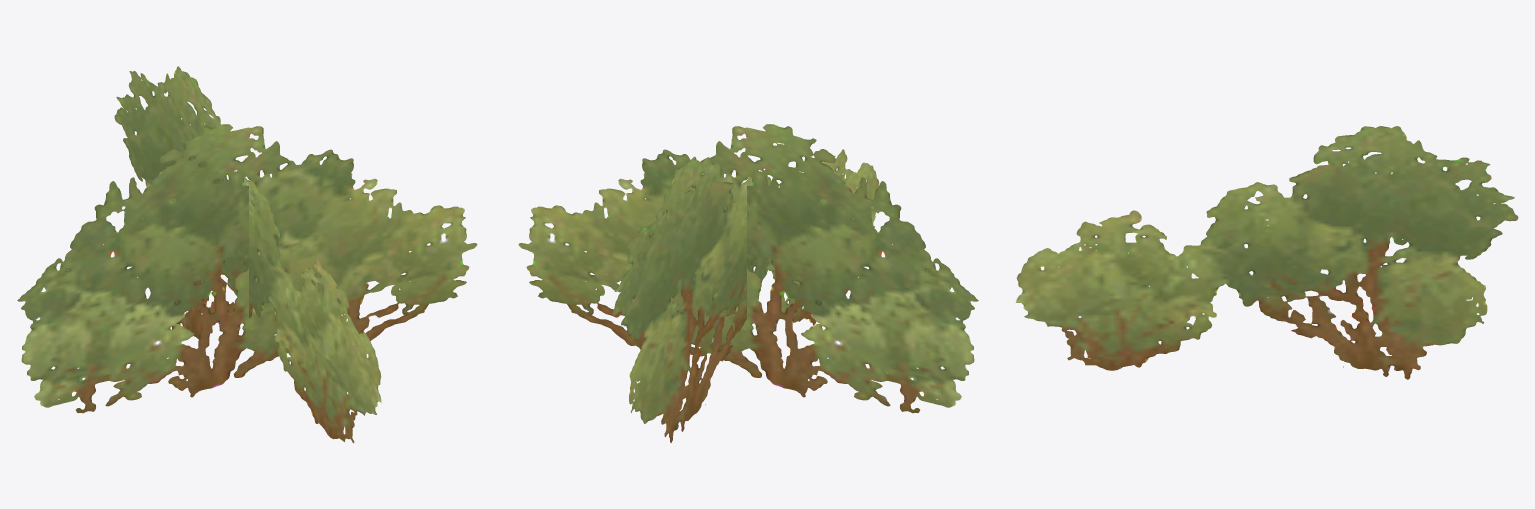
The model's file is shrub-2-far.glb.
The picture shows the model from 3 angles, left to right: view 1: azimuth 30°, elevation 25°; view 2: azimuth 150°, elevation 25°; view 3: azimuth 270°, elevation 25°; orthographic projection. The views are drawn at different scales.
Size of the model in its own units: 0.9969 by 0.5728 by 0.9985.
Materials: 1 (1 with a texture image).
